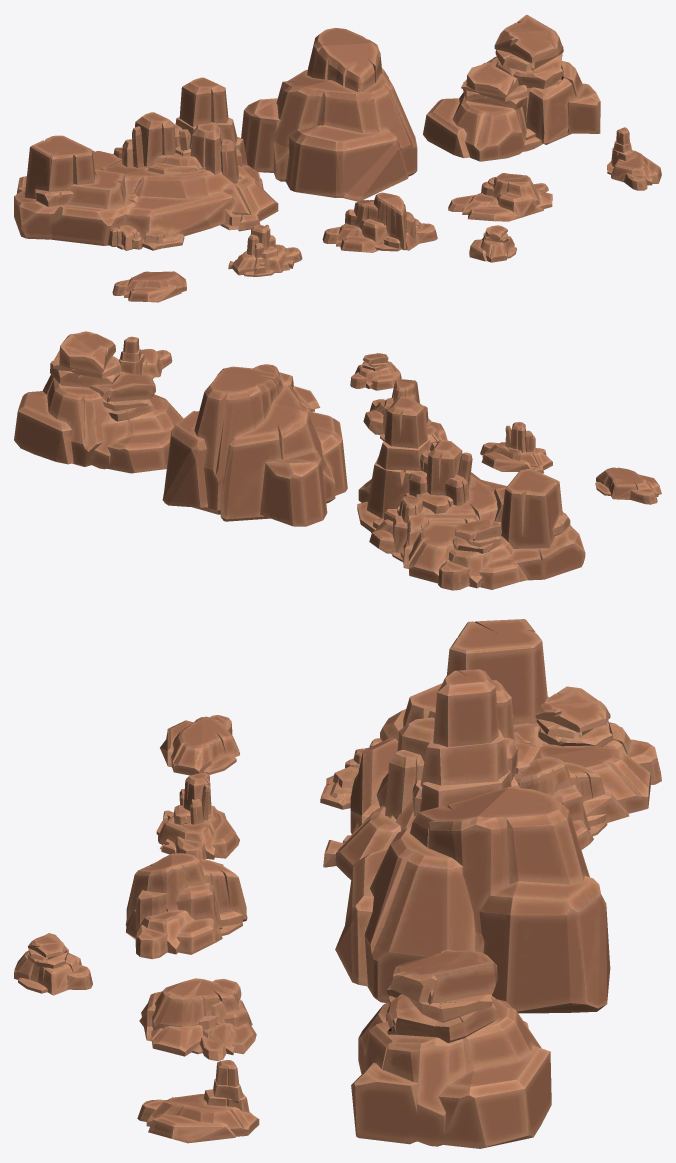
File: p_desert_rocks.glb
3 views of the same model, one above another, from view 1: azimuth 30°, elevation 25°; view 2: azimuth 150°, elevation 25°; view 3: azimuth 270°, elevation 25° (orthographic). The views are drawn at different scales.
Parts seen in each view (by area): view 1: Cube.013, Cube.009, Cube.015, Cube.008, Cube.010, Cube.006, Cube.014, Cube.005, Cube.017; view 2: Cube.013, Cube.009, Cube.015, Cube.006, Cube.005, Cube.008, Cube.014, Cube.017, Cube.010; view 3: Cube.009, Cube.013, Cube.015, Cube.008, Cube.010, Cube.014, Cube.006, Cube.005, Cube.017.
Part boxes in pixels (bbox=[...]): Cube.013: bbox=[14, 77, 278, 250]; Cube.009: bbox=[241, 28, 417, 201]; Cube.015: bbox=[423, 14, 600, 161]; Cube.008: bbox=[322, 192, 437, 252]; Cube.010: bbox=[448, 173, 552, 221]; Cube.006: bbox=[228, 224, 302, 276]; Cube.014: bbox=[607, 127, 661, 190]; Cube.005: bbox=[112, 271, 186, 302]; Cube.017: bbox=[469, 225, 516, 262]; Cube.013: bbox=[357, 396, 585, 590]; Cube.009: bbox=[162, 366, 347, 526]; Cube.015: bbox=[14, 331, 183, 473]; Cube.006: bbox=[480, 422, 552, 473]; Cube.005: bbox=[595, 467, 661, 504]; Cube.008: bbox=[363, 379, 447, 441]; Cube.014: bbox=[118, 336, 172, 378]; Cube.017: bbox=[350, 353, 401, 390]; Cube.010: bbox=[253, 364, 320, 411]; Cube.009: bbox=[335, 787, 610, 1013]; Cube.013: bbox=[320, 619, 661, 879]; Cube.015: bbox=[351, 949, 551, 1148]; Cube.008: bbox=[125, 853, 247, 959]; Cube.010: bbox=[139, 978, 256, 1061]; Cube.014: bbox=[137, 1060, 259, 1143]; Cube.006: bbox=[156, 772, 239, 859]; Cube.005: bbox=[160, 715, 239, 775]; Cube.017: bbox=[14, 933, 92, 995].
Size of the model in its own units: 62.71 by 12.83 by 40.
Materials: 6 (6 with a texture image).
